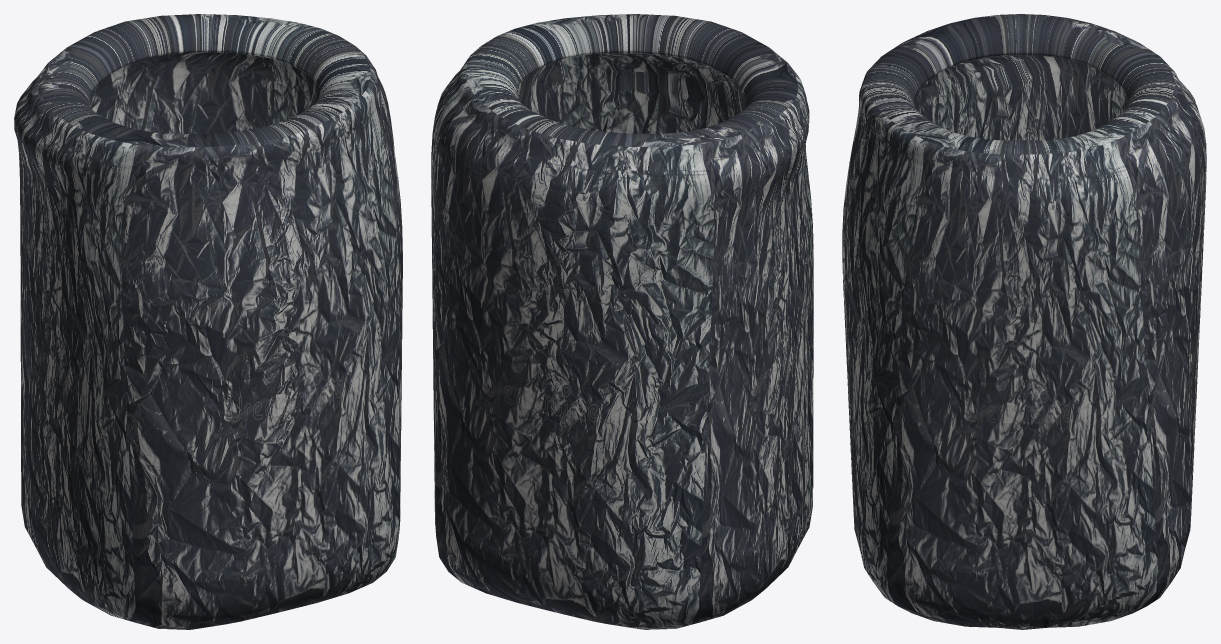
The model's file is TrashBag.dae.
3 renders of one model, left to right at view 1: azimuth 30°, elevation 25°; view 2: azimuth 150°, elevation 25°; view 3: azimuth 270°, elevation 25°, orthographic. The views are drawn at different scales.
Visible parts, largest first — view 1: Bag_001; view 2: Bag_001; view 3: Bag_001.
Boxes of the visible parts, <box> form: Bag_001: <box>14,14,402,629</box>; Bag_001: <box>431,14,813,629</box>; Bag_001: <box>842,14,1206,629</box>.
Bounding box in the file's own units: 21.19 × 20.29 × 30.54.
1 material, 1 textured.
